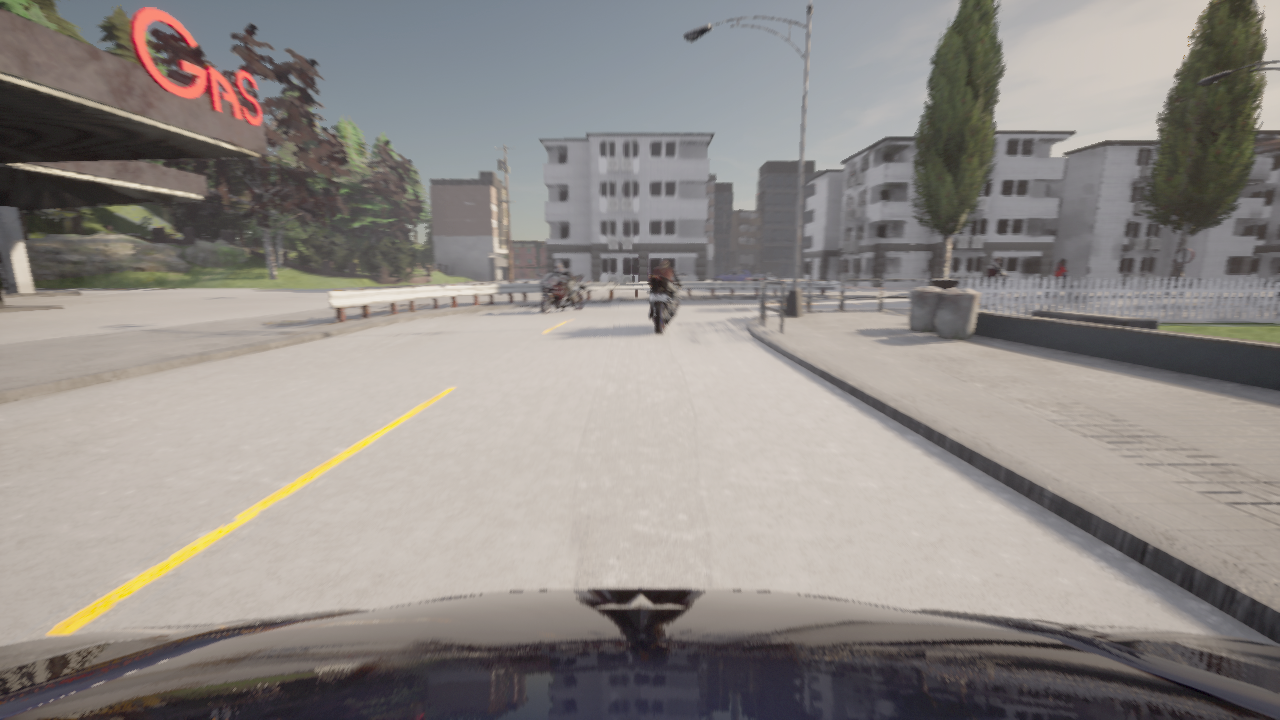cyclist: (0, 588, 1279, 719), (647, 274, 685, 333), (537, 272, 587, 314), (977, 279, 1016, 307), (712, 269, 750, 280), (745, 271, 777, 280), (761, 278, 765, 279)
pedestrian: (1053, 259, 1067, 298)
